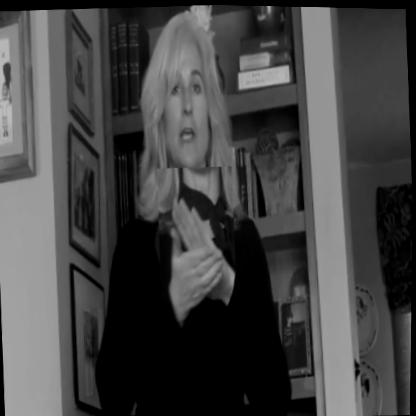NiceToMeetYou: (155, 163, 241, 344)
